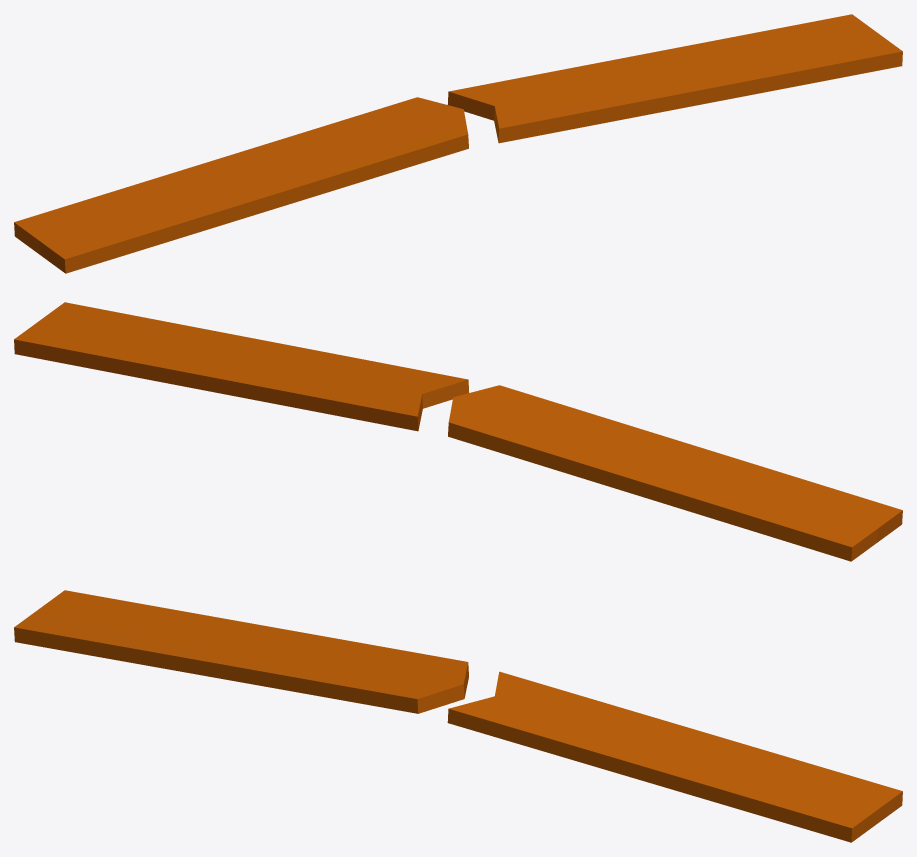
File: Broken_plank_13.fbx
3 renders of one model, top to bottom at view 1: azimuth 30°, elevation 25°; view 2: azimuth 150°, elevation 25°; view 3: azimuth 330°, elevation 25°, orthographic.
Parts seen in each view (by area): view 1: Cube.105, Cube.100; view 2: Cube.105, Cube.100; view 3: Cube.100, Cube.105.
Boxes of the visible parts, x1=… form: Cube.105: x1=14, y1=97, x2=468, y2=273; Cube.100: x1=447, y1=14, x2=902, y2=143; Cube.105: x1=448, y1=385, x2=902, y2=561; Cube.100: x1=14, y1=302, x2=469, y2=431; Cube.100: x1=447, y1=671, x2=902, y2=842; Cube.105: x1=14, y1=590, x2=468, y2=713.
Bounding box in the file's own units: 124 × 6.04 × 13.07.
